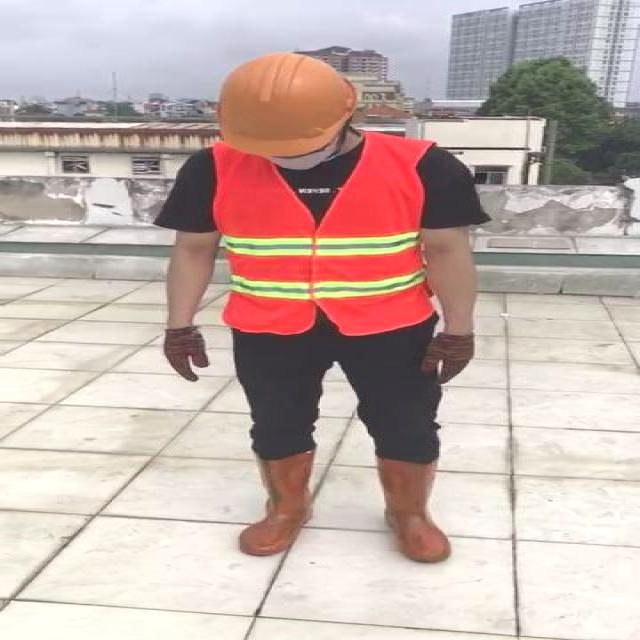boots: (236, 446, 322, 558), (381, 455, 454, 564)
hand_glove: (420, 330, 480, 384), (162, 327, 212, 384)
head_helmet: (218, 51, 356, 156)
person: (148, 54, 482, 572)
vest: (222, 134, 430, 332)
